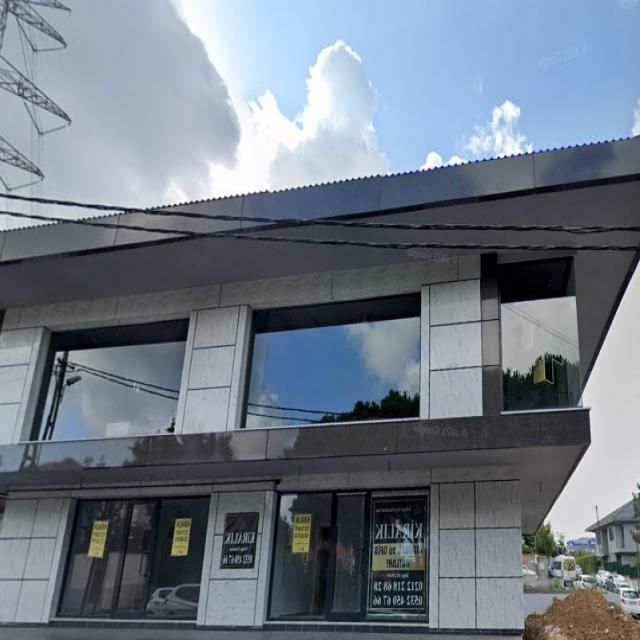Building: (0, 137, 640, 635)
